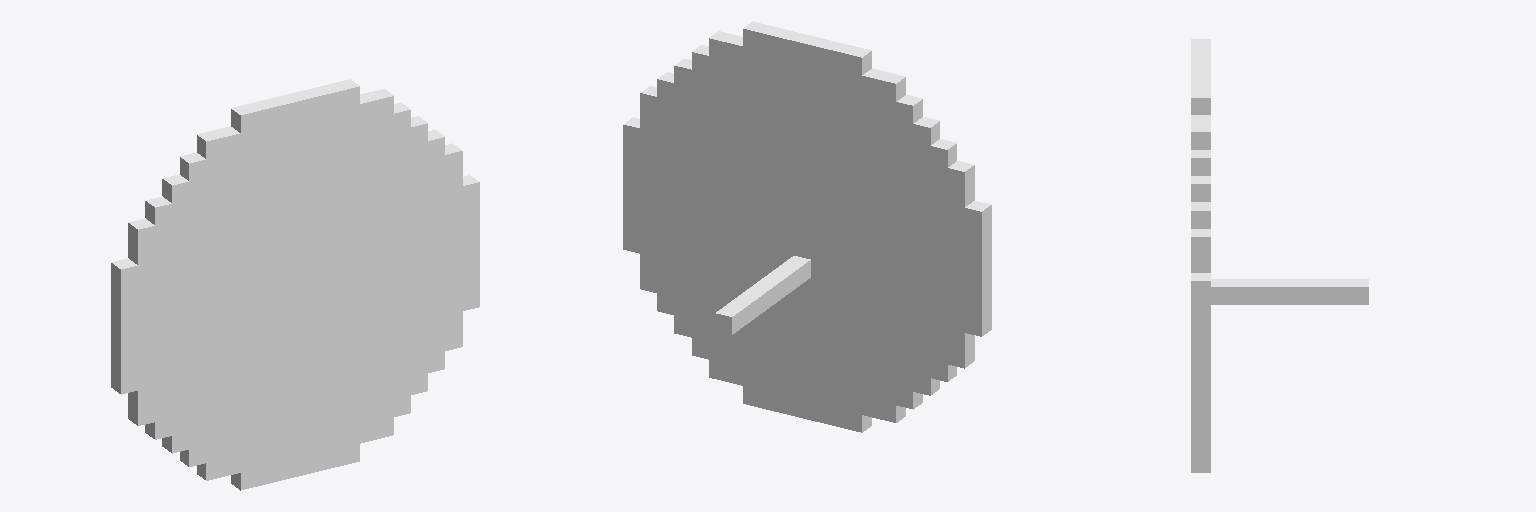
Rendered from satteliteDish-0-lod2.obj.
3 renders of one model, left to right at view 1: azimuth 30°, elevation 25°; view 2: azimuth 150°, elevation 25°; view 3: azimuth 270°, elevation 25°, orthographic.
Visible parts, largest first — view 1: lod2; view 2: lod2; view 3: lod2.
Boxes of the visible parts, box(x1,y1,x2,y2) form: lod2: box(111, 79, 479, 490); lod2: box(623, 21, 991, 432); lod2: box(1191, 39, 1368, 472).
Bounding box in the file's own units: 8.4 × 8.4 × 3.6.